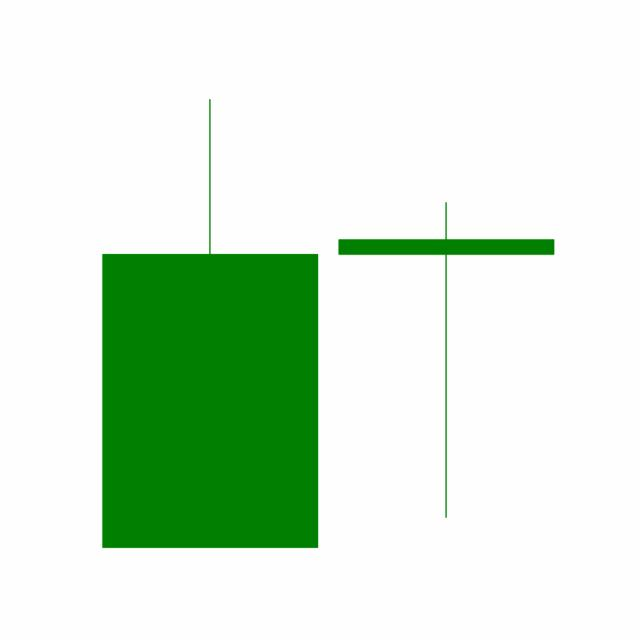Hanging Man: (327, 198, 565, 521)
